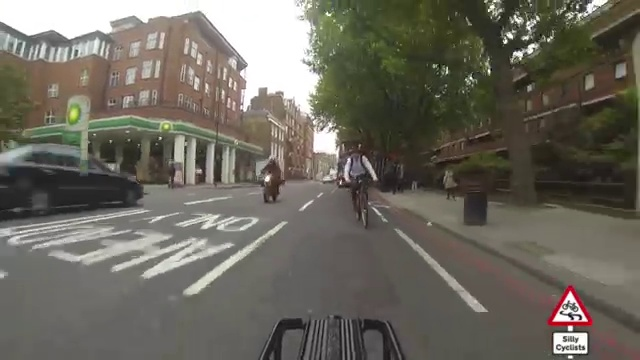cyclist_front: (345, 143, 380, 226), (256, 151, 285, 205)
